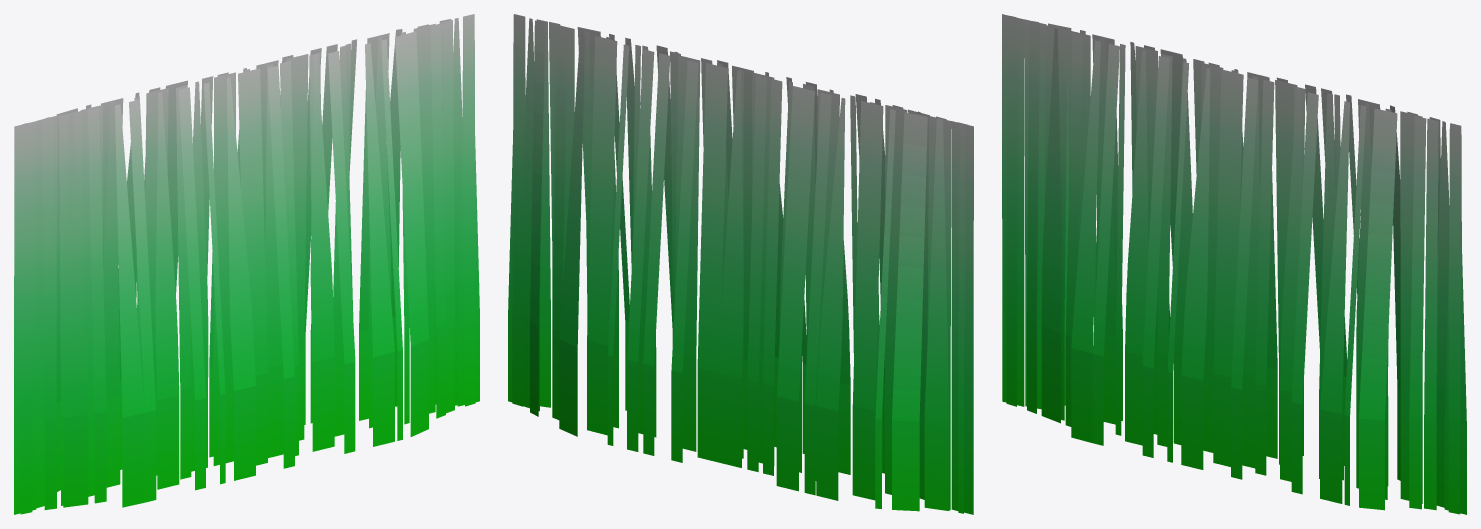
The model's file is Hira_v1764_f1638.fbx.
3 views of the same model, side by side, from view 1: azimuth 30°, elevation 25°; view 2: azimuth 150°, elevation 25°; view 3: azimuth 330°, elevation 25° (orthographic).
Visible parts, largest first — view 1: Hira_v1764_f1638; view 2: Hira_v1764_f1638; view 3: Hira_v1764_f1638.
Part boxes in pixels (<box>): Hira_v1764_f1638: <box>14,14,479,514</box>; Hira_v1764_f1638: <box>508,14,973,514</box>; Hira_v1764_f1638: <box>1002,14,1466,514</box>.
Bounding box in the file's own units: 753 × 600 × 111.
